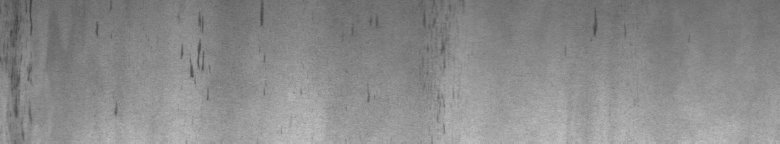ka: (4, 4, 120, 136)
